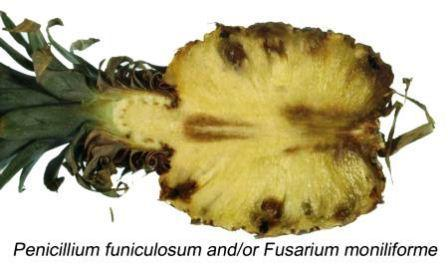damaged_pineapple: (58, 31, 410, 230)
